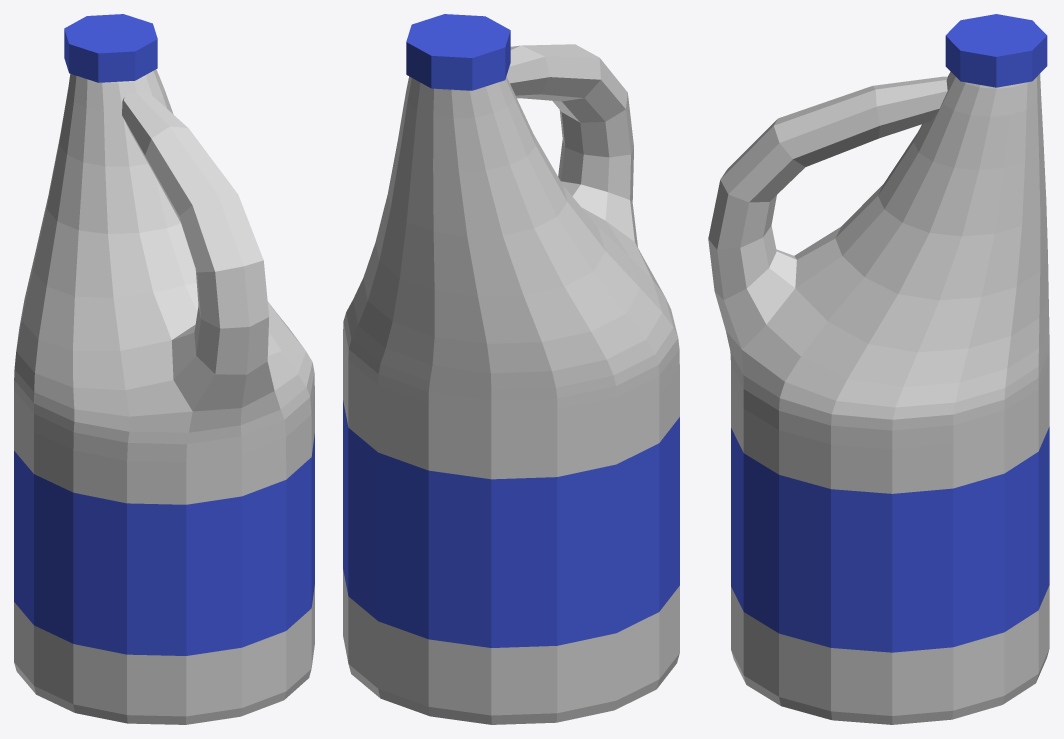
Rendered from bleach.fbx.
3 renders of one model, left to right at view 1: azimuth 30°, elevation 25°; view 2: azimuth 150°, elevation 25°; view 3: azimuth 270°, elevation 25°, orthographic. The views are drawn at different scales.
Visible parts, largest first — view 1: Cylinder.001; view 2: Cylinder.001; view 3: Cylinder.001.
Boxes of the visible parts, x1,y1,x2,y2 form: Cylinder.001: (14, 14, 314, 724); Cylinder.001: (343, 14, 679, 724); Cylinder.001: (708, 14, 1049, 724).
Bounding box in the file's own units: 180 × 393 × 193.
